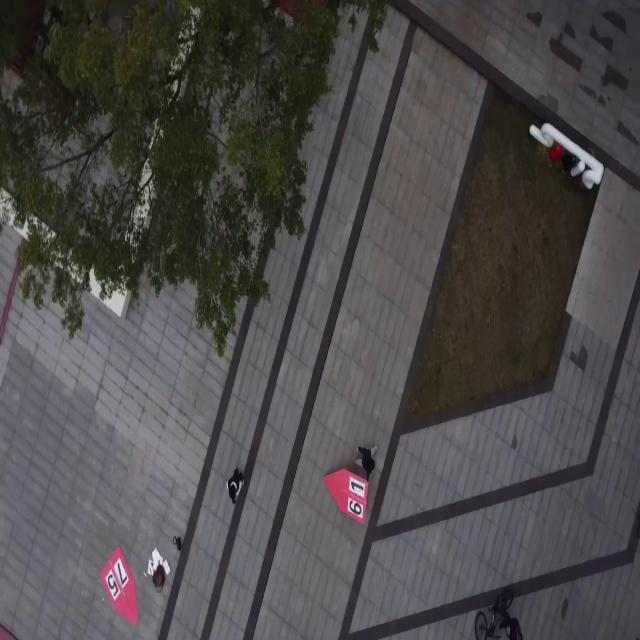-sign-: (96, 539, 146, 633), (322, 467, 370, 525)
